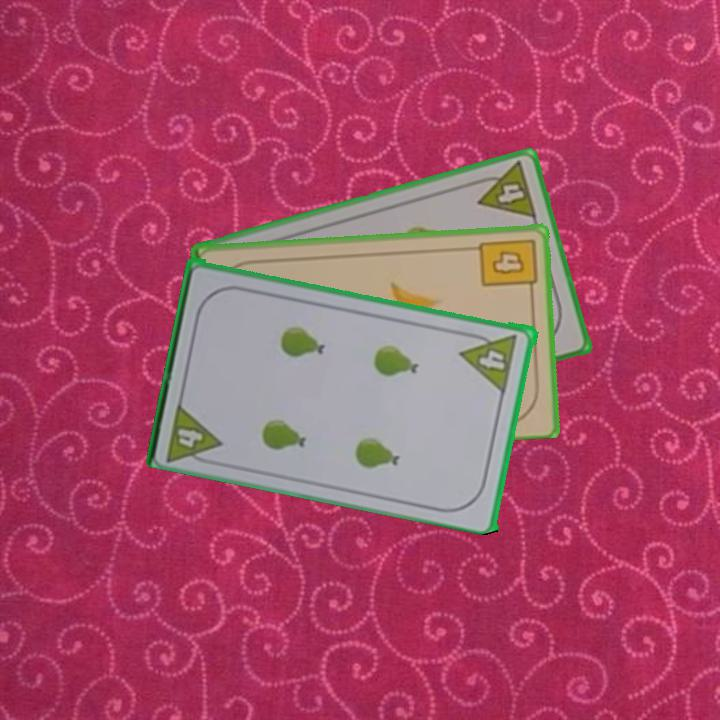4b: (476, 235, 539, 297)
4p: (469, 158, 540, 222), (458, 345, 511, 394), (174, 424, 207, 450)
